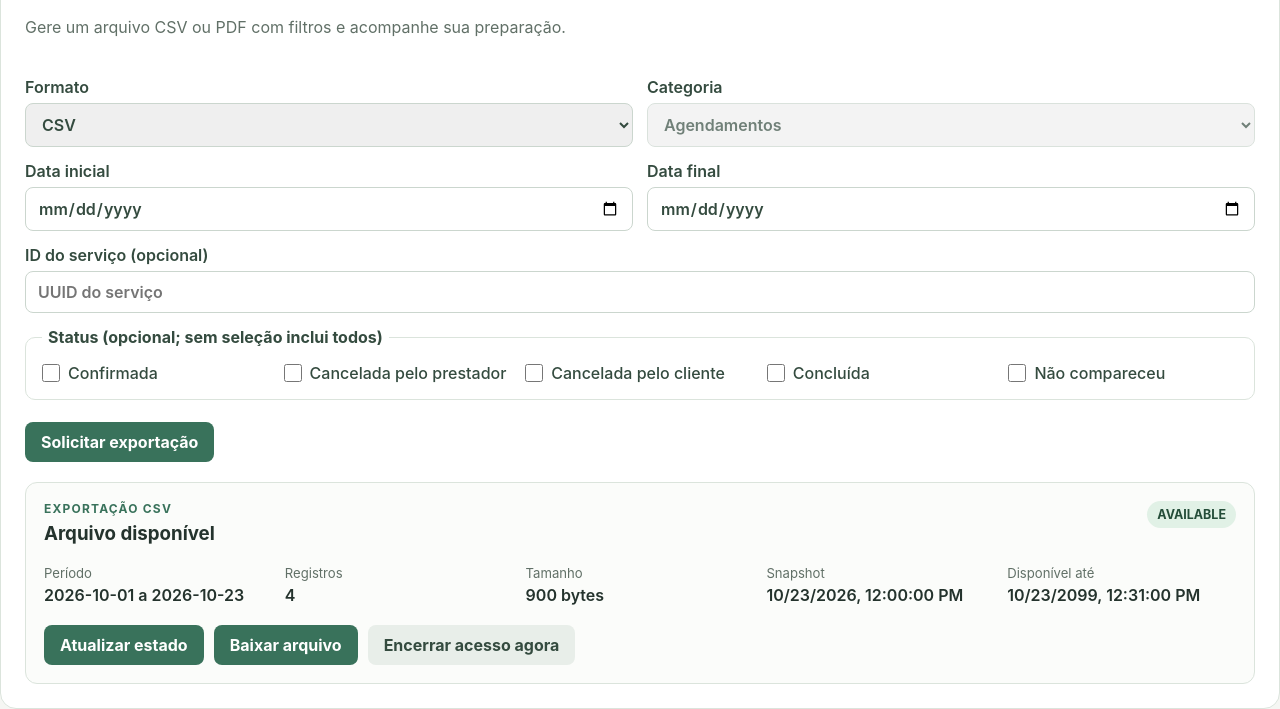
Test: ExportCenter DOM interactions › does not send content or create a URL when logout interrupts handle issuance
(page scrolled)
Click the button "Baixar arquivo" at (286, 645), box left=214, top=625, right=358, bottom=665
(page scrolled)
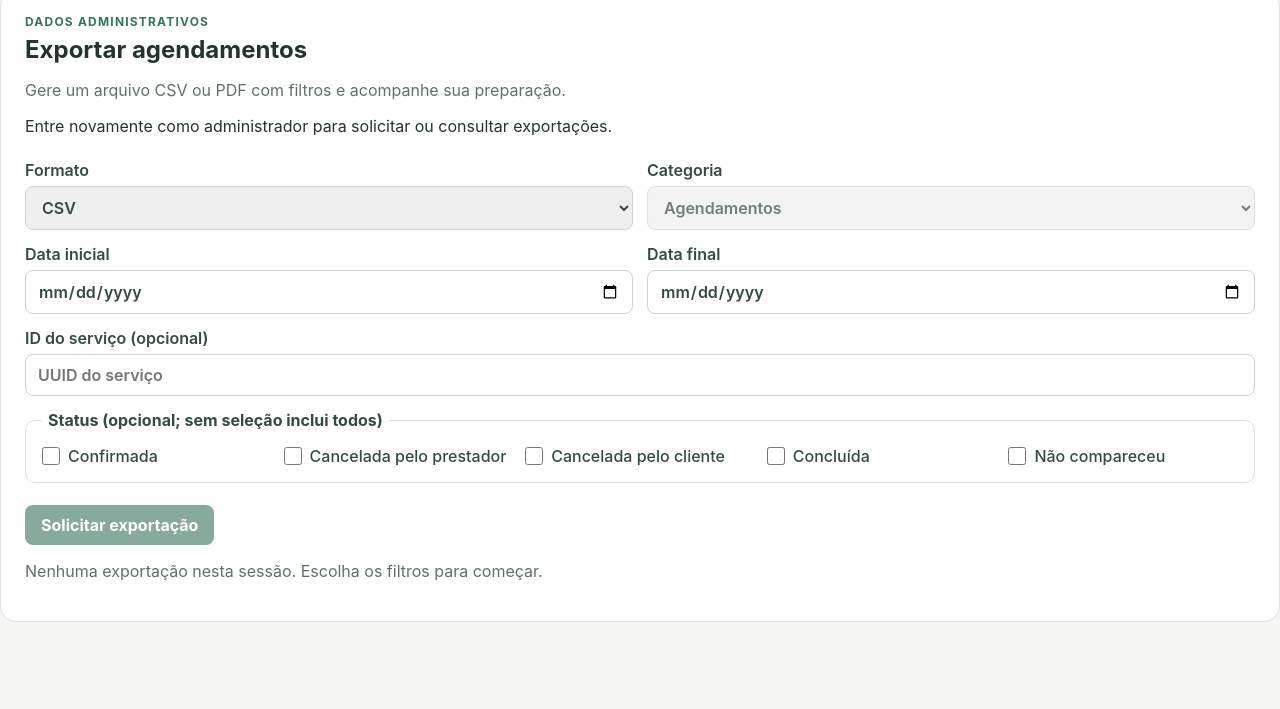
Result: the text "Arquivo disponível" is gone
